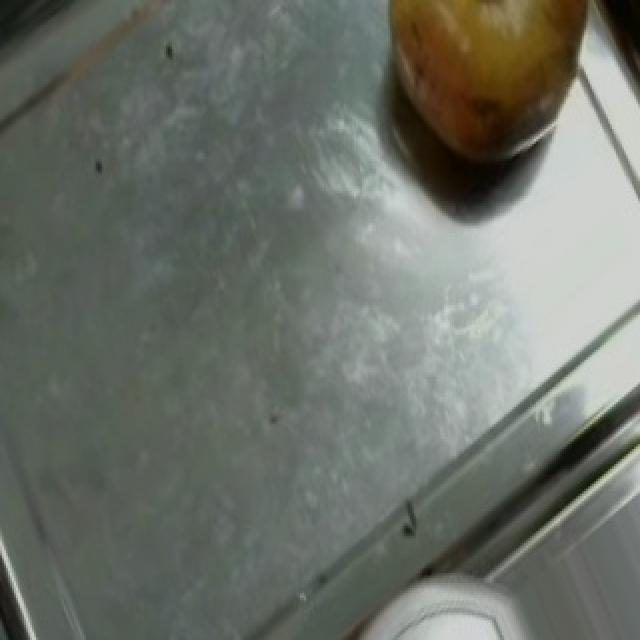fruit: (358, 0, 606, 201), (350, 585, 548, 640)
